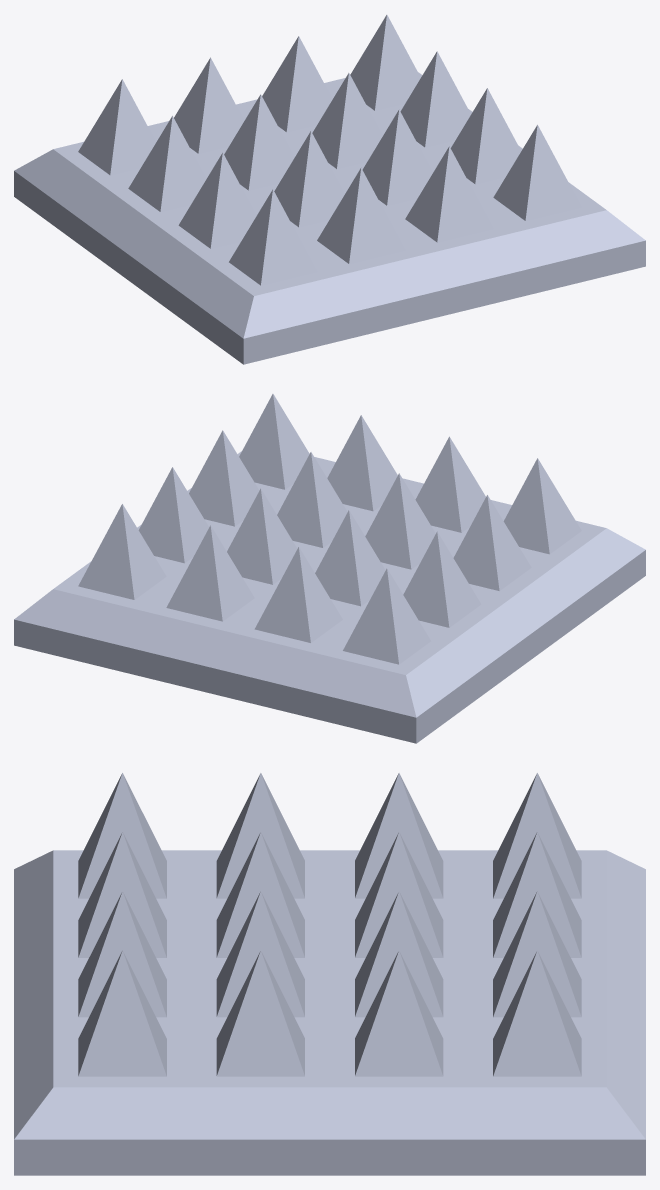
The model's file is d_kenney_pics.glb.
The picture shows the model from 3 angles, top to bottom: view 1: azimuth 30°, elevation 25°; view 2: azimuth 150°, elevation 25°; view 3: azimuth 270°, elevation 25°; orthographic projection. The views are drawn at different scales.
Parts seen in each view (by area): view 1: d_kenney_pics; view 2: d_kenney_pics; view 3: d_kenney_pics.
Part boxes in pixels (left/top/right/bottom): d_kenney_pics: left=14, top=15, right=645, bottom=364; d_kenney_pics: left=14, top=394, right=645, bottom=743; d_kenney_pics: left=14, top=773, right=645, bottom=1175.
Bounding box in the file's own units: 0.81 × 0.25 × 0.8.
Materials: 1 (1 with a texture image).
